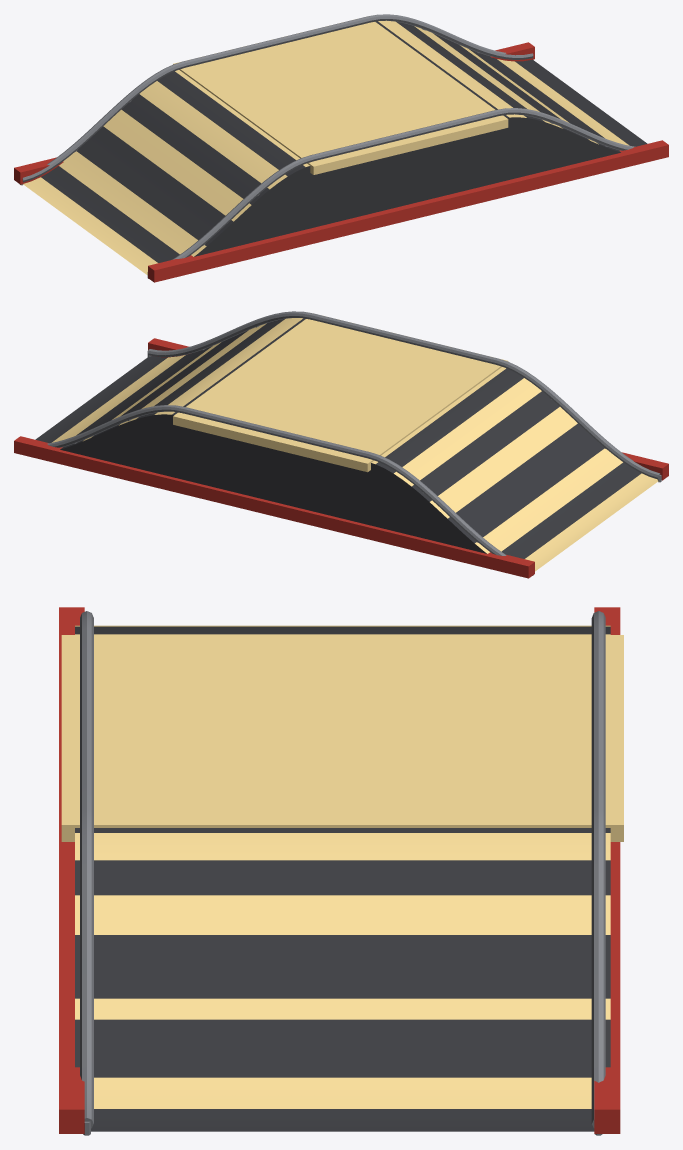
File: dt_ramp_jump.fbx
3 renders of one model, top to bottom at view 1: azimuth 30°, elevation 25°; view 2: azimuth 150°, elevation 25°; view 3: azimuth 270°, elevation 25°, orthographic. The views are drawn at different scales.
Visible parts, largest first — view 1: gold_1, concrete_1, crimson_1, steel_1; view 2: gold_1, concrete_1, crimson_1, steel_1; view 3: gold_1, concrete_1, steel_1, crimson_1.
Part boxes in pixels (left/top/right/bottom): gold_1: left=23, top=20, right=629, bottom=275; concrete_1: left=41, top=21, right=647, bottom=262; crimson_1: left=14, top=42, right=668, bottom=282; steel_1: left=20, top=14, right=635, bottom=278; gold_1: left=52, top=318, right=658, bottom=571; concrete_1: left=35, top=318, right=641, bottom=558; crimson_1: left=14, top=338, right=668, bottom=578; steel_1: left=47, top=311, right=661, bottom=575; gold_1: left=61, top=625, right=623, bottom=1108; concrete_1: left=75, top=626, right=610, bottom=1131; steel_1: left=80, top=611, right=605, bottom=1135; crimson_1: left=59, top=607, right=620, bottom=1133.
Size of the model in its own units: 2.22 by 0.344 by 1.06.
